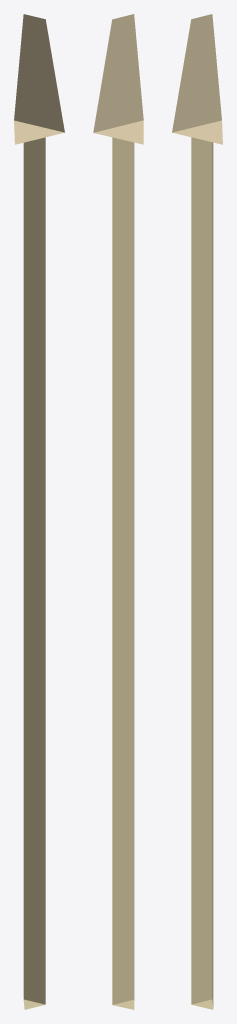
The model's file is field_wheat_stalk.glb.
3 views of the same model, side by side, from view 1: azimuth 90°, elevation 25°; view 2: azimuth 150°, elevation 25°; view 3: azimuth 270°, elevation 25° (orthographic).
Parts seen in each view (by area): view 1: Stalk, Ear; view 2: Stalk, Ear; view 3: Stalk, Ear.
Boxes of the visible parts, box(x1,y1,x2,y2) form: Stalk: box(23, 137, 45, 1009); Ear: box(14, 14, 64, 144); Stalk: box(112, 137, 134, 1009); Ear: box(93, 14, 143, 144); Stalk: box(191, 137, 213, 1009); Ear: box(172, 14, 222, 144).
Size of the model in its own units: 0.06 by 1.13 by 0.053.
